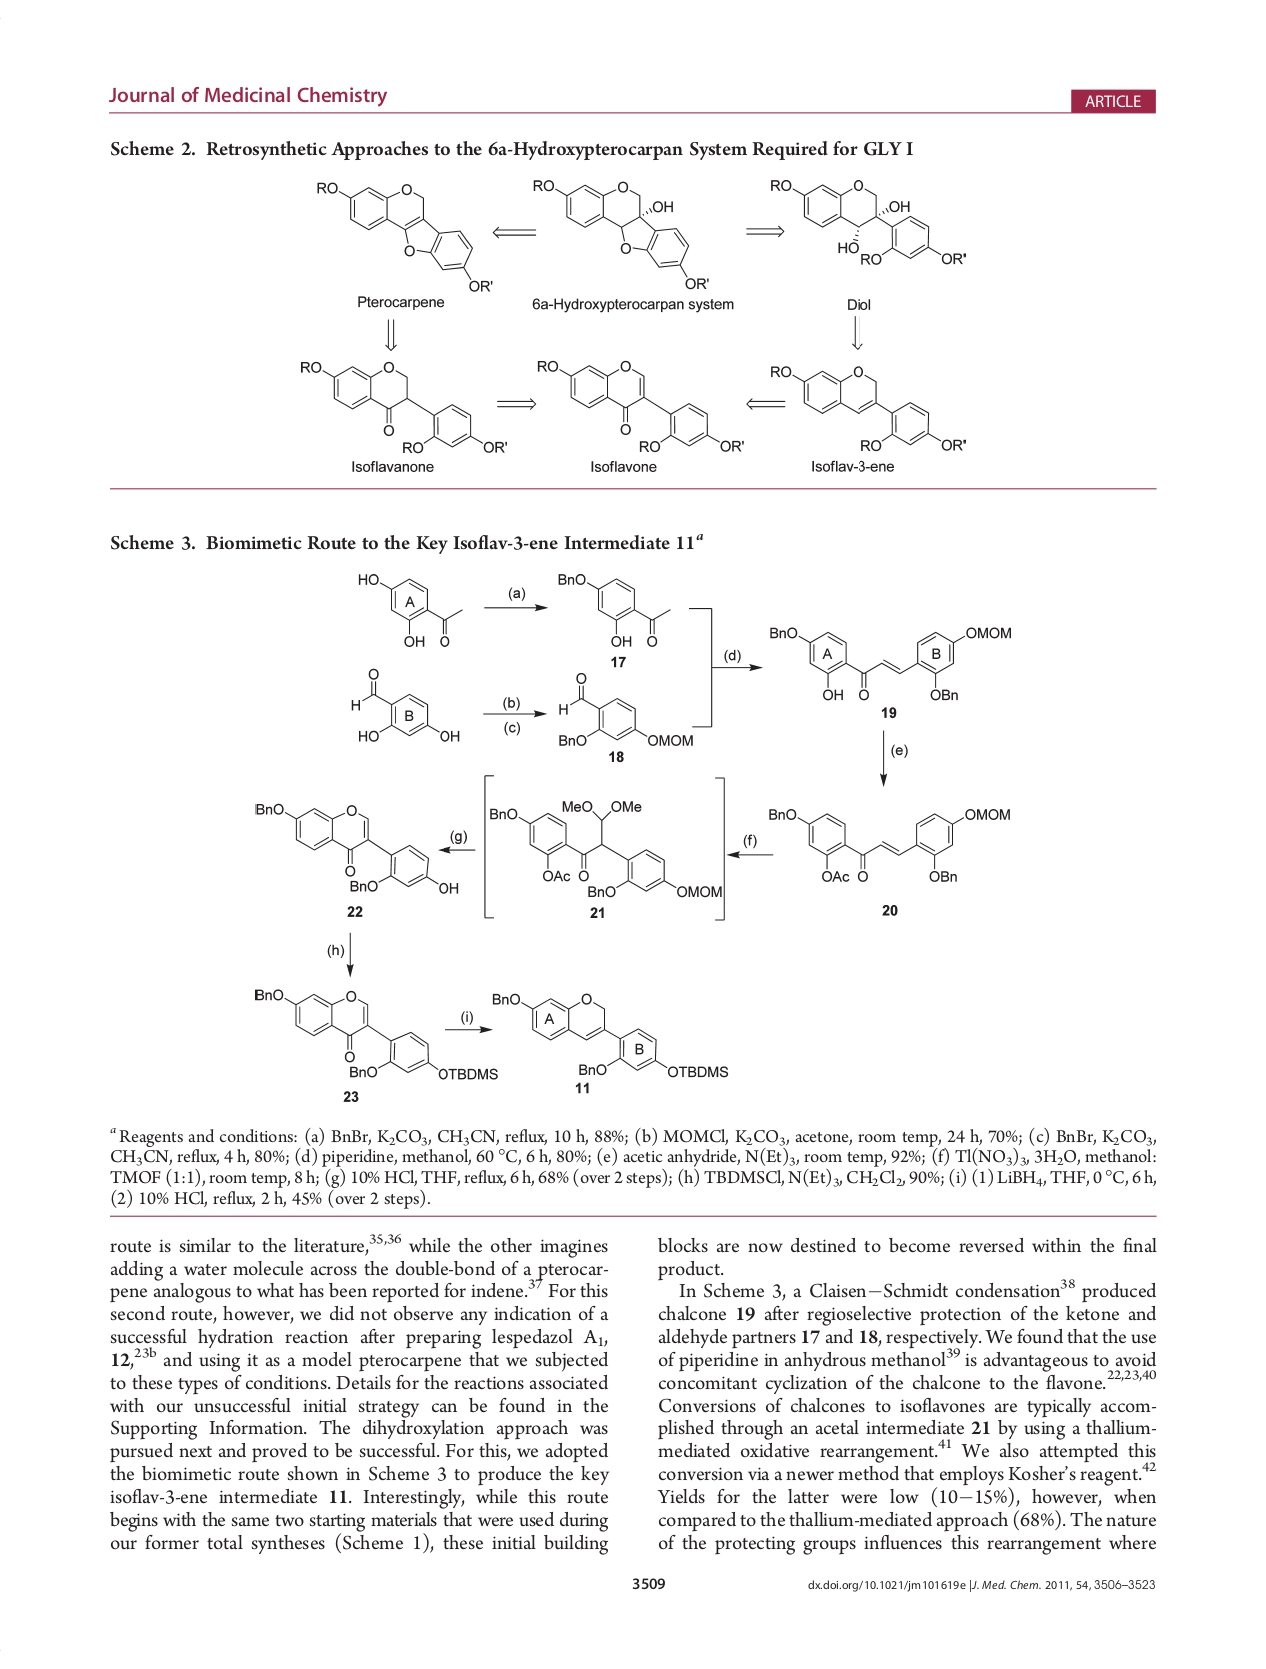exist_molecular: (487, 795, 723, 903), (253, 983, 497, 1084), (489, 989, 730, 1081), (295, 356, 513, 457), (533, 355, 745, 457), (313, 176, 493, 294), (531, 173, 711, 291), (765, 618, 1015, 704), (253, 798, 461, 898), (767, 174, 969, 273), (766, 359, 967, 457), (767, 805, 1013, 883), (553, 670, 694, 751), (553, 571, 673, 650), (354, 567, 465, 649), (348, 668, 461, 745)
